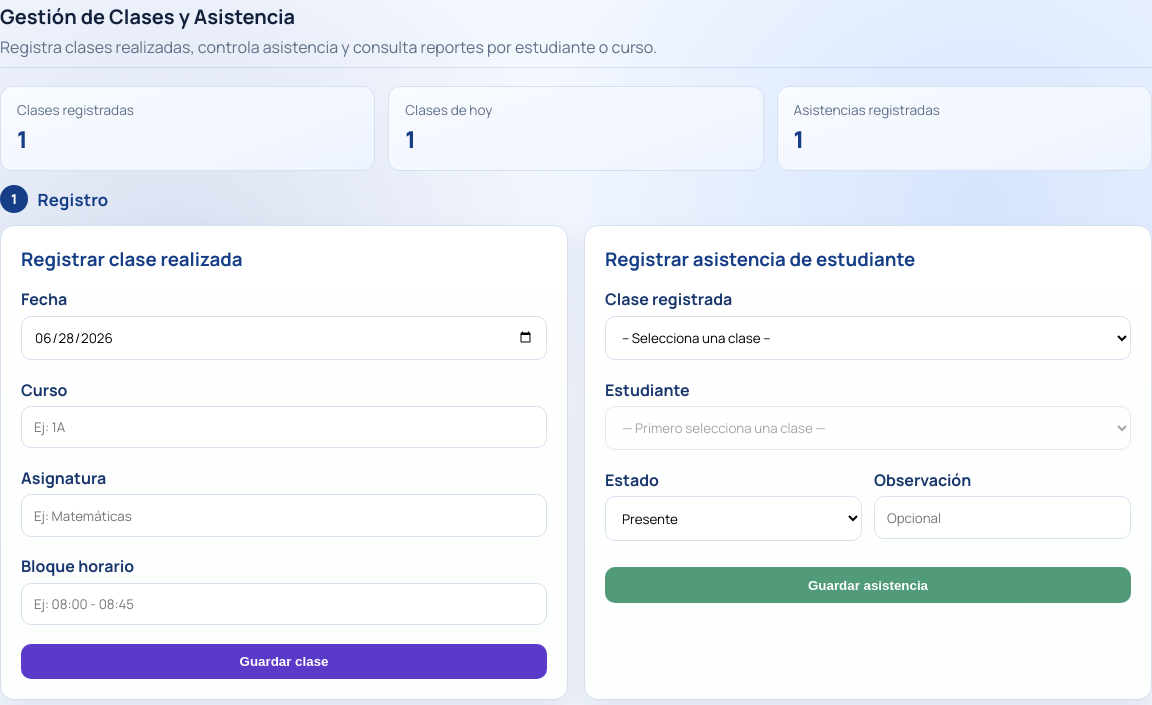
Asistencia — registro de clase › muestra éxito tras guardar clase correctamente
The image size is (1152, 705).
In the field labelled "Asignatura": point(284, 516) [21,494,547,537], type "Ciencias"
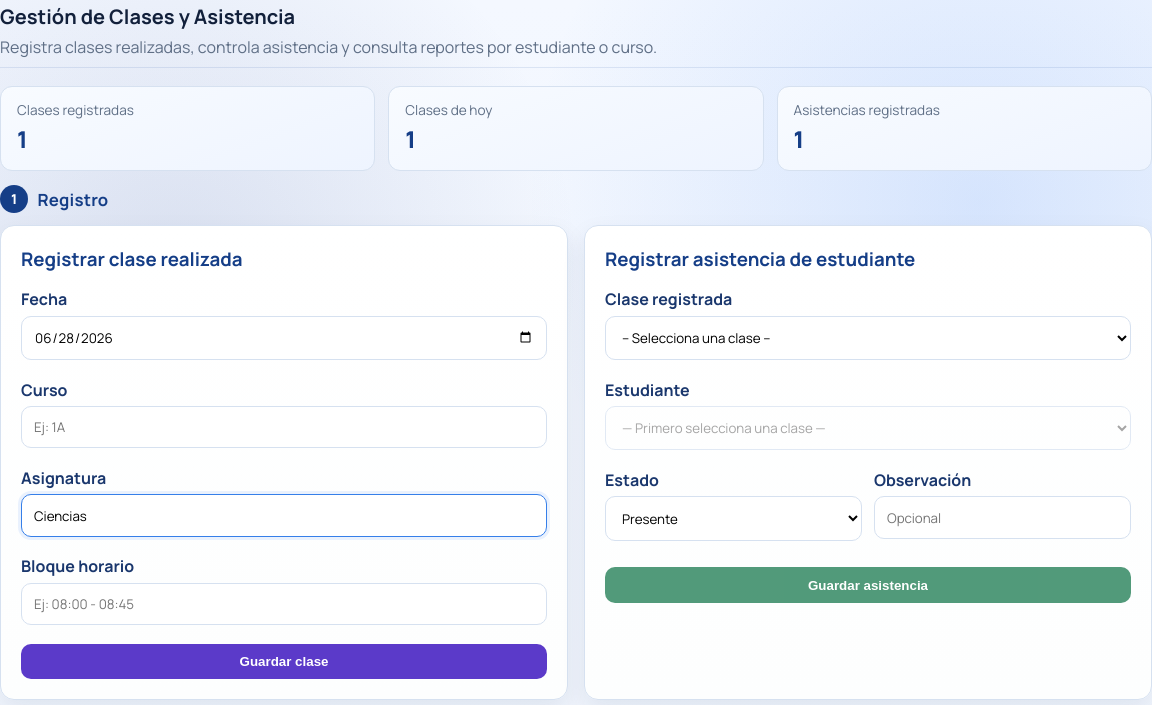
In the field labelled "Bloque horario": point(284, 604) [21,583,547,625], type "10:00"
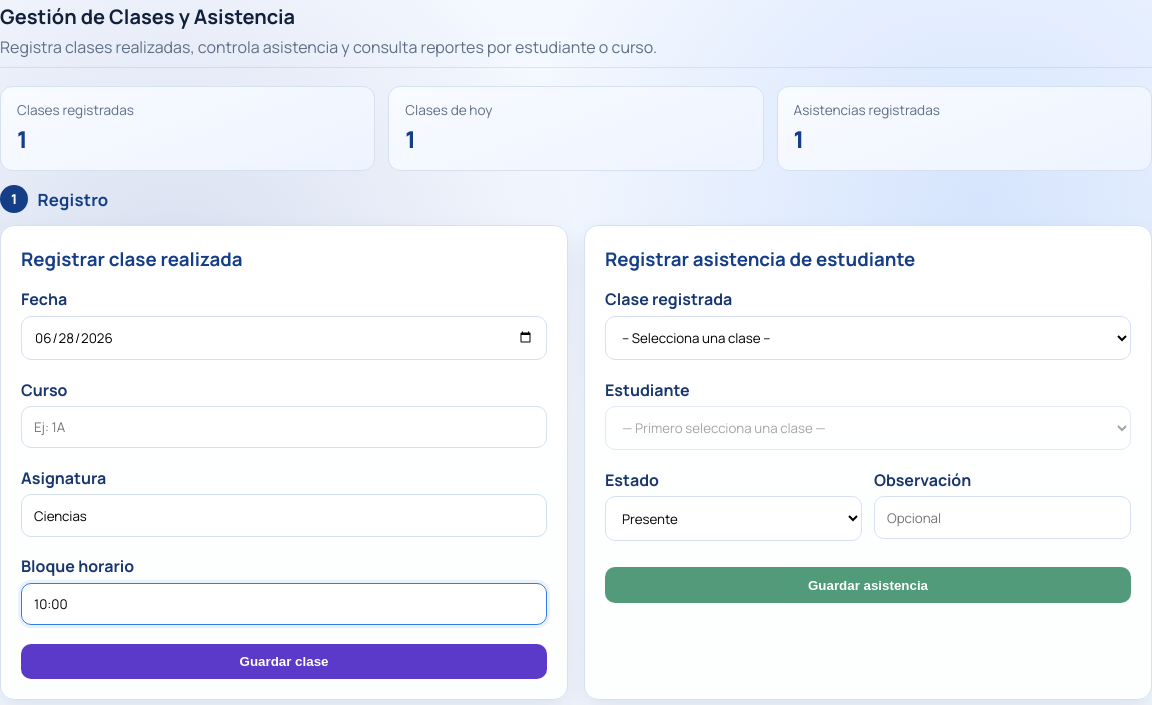
Click the button "Guardar clase": point(284, 662) [21,644,547,679]
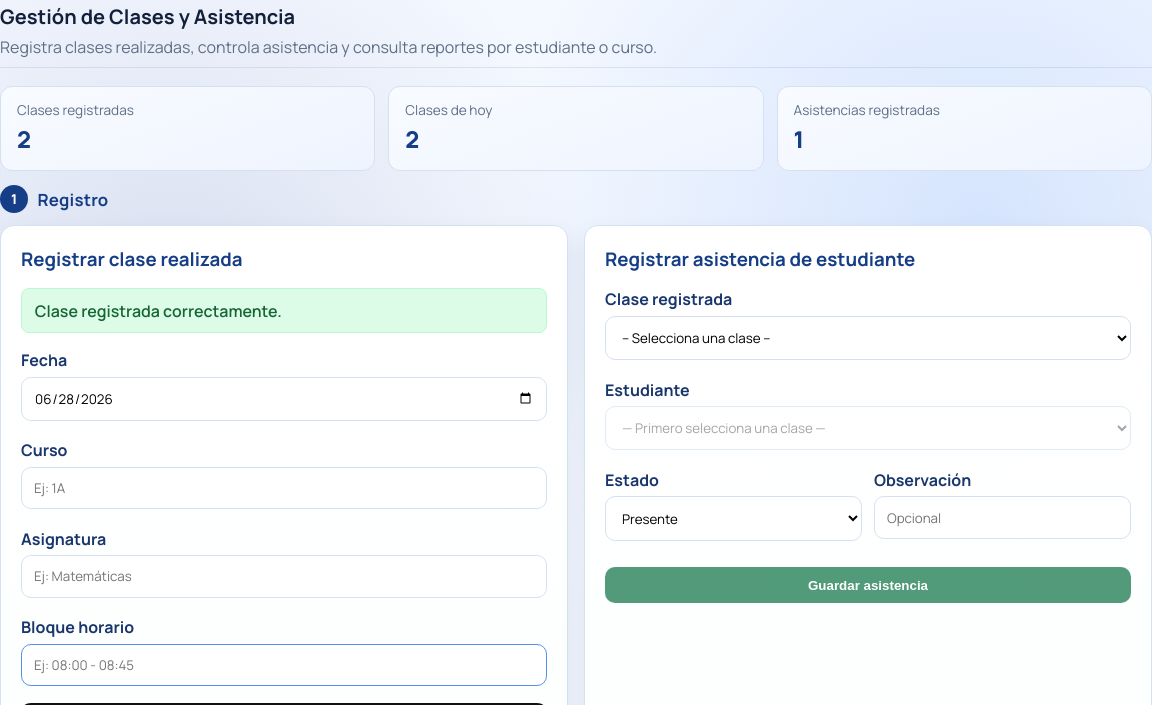
Now the text "Clase registrada correctamente." is shown, box [21,288,547,333]
